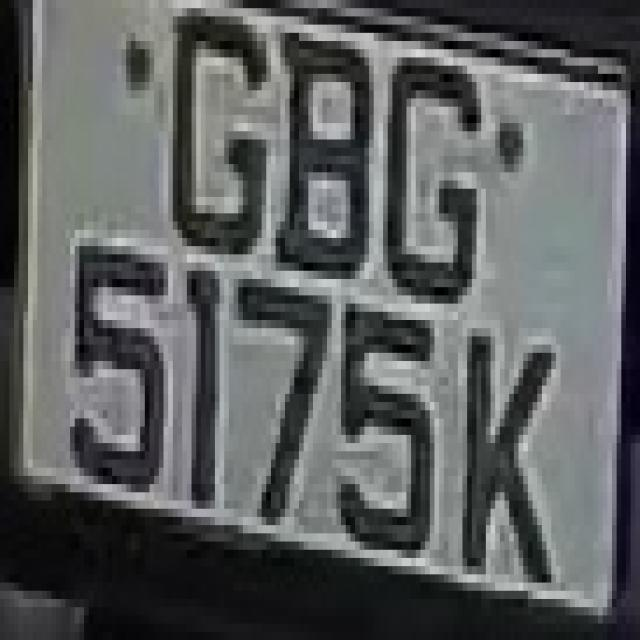1: (177, 238, 229, 525)
5: (61, 189, 173, 517), (336, 255, 439, 574)
7: (220, 221, 322, 558)
B: (262, 25, 383, 287)
G: (364, 33, 496, 312), (159, 0, 280, 279)
K: (448, 304, 566, 607)
